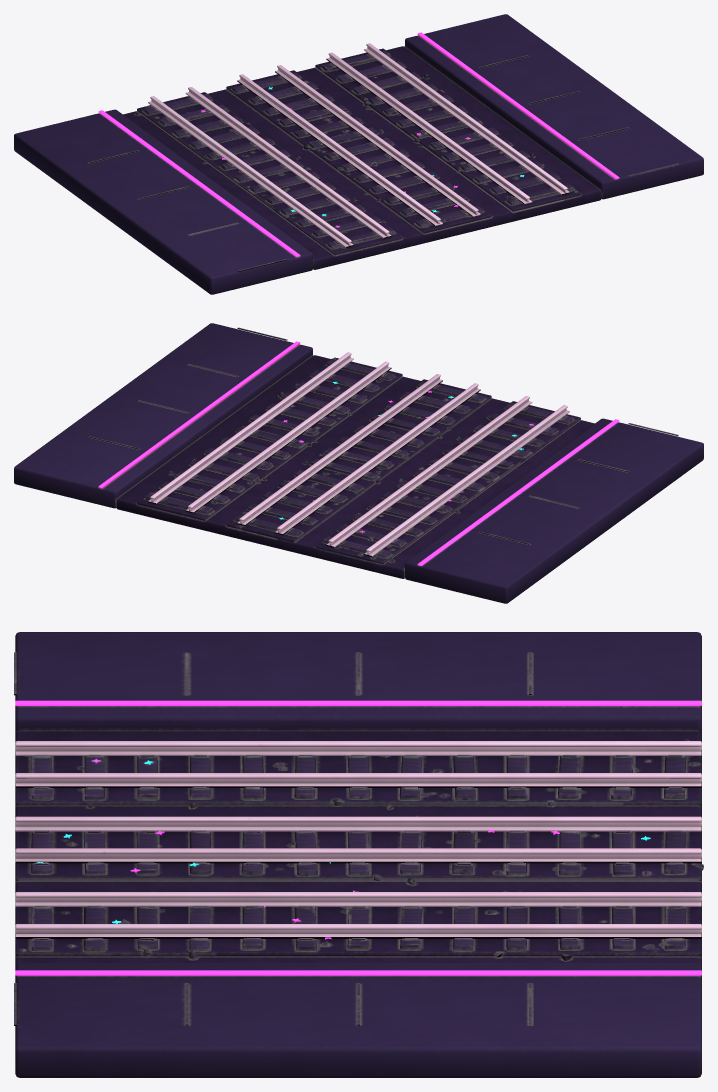
Rendered from rn_track_segment.glb.
3 renders of one model, top to bottom at view 1: azimuth 30°, elevation 25°; view 2: azimuth 150°, elevation 25°; view 3: azimuth 270°, elevation 25°, orthographic. The views are drawn at different scales.
Parts seen in each view (by area): view 1: rn_track_segment; view 2: rn_track_segment; view 3: rn_track_segment.
Part boxes in pixels (x1,y1,x2,y2): rn_track_segment: (14, 14, 703, 294); rn_track_segment: (14, 323, 703, 603); rn_track_segment: (14, 632, 703, 1077).
Bounding box in the file's own units: 14.4 × 0.5925 × 10.05.
7 materials, 7 textured.
